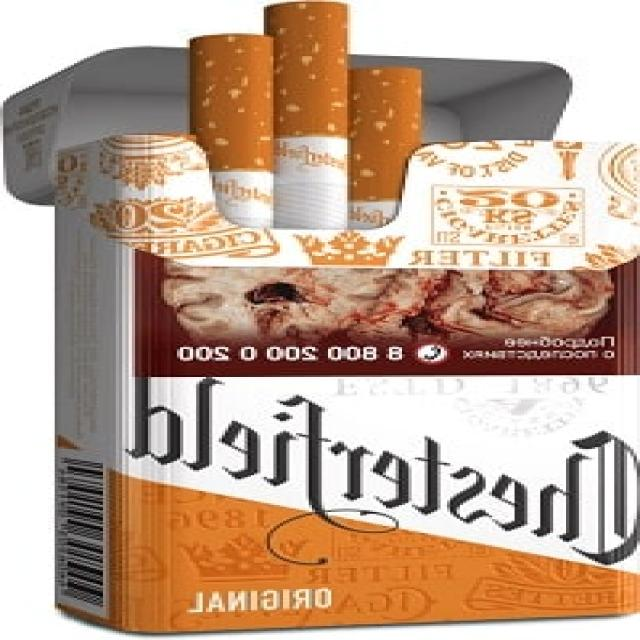chesterfield: (52, 115, 637, 640)
